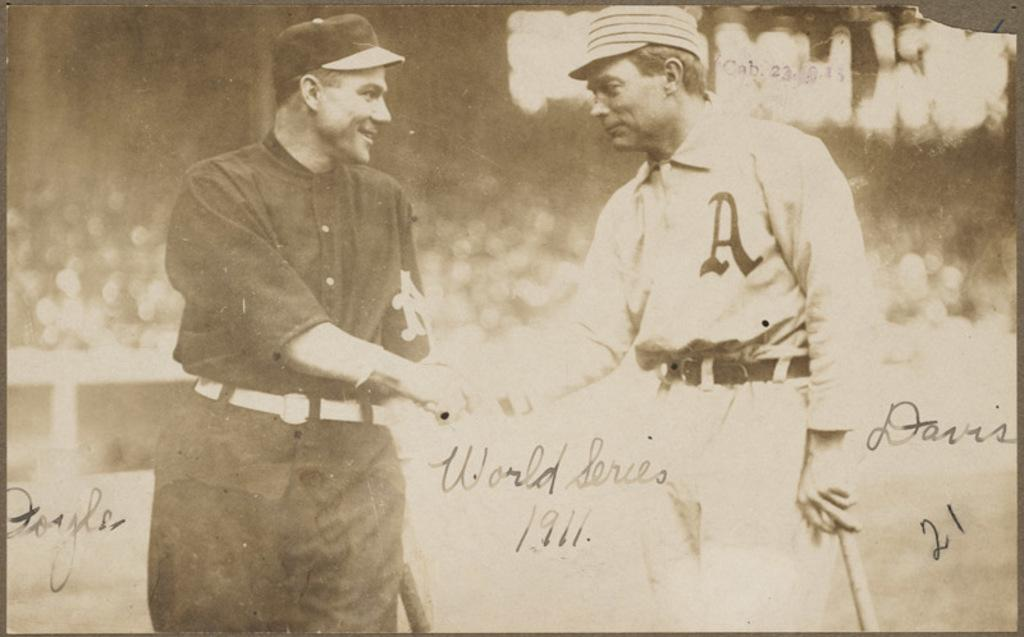Hat: (272, 12, 405, 92), (568, 6, 704, 81)
